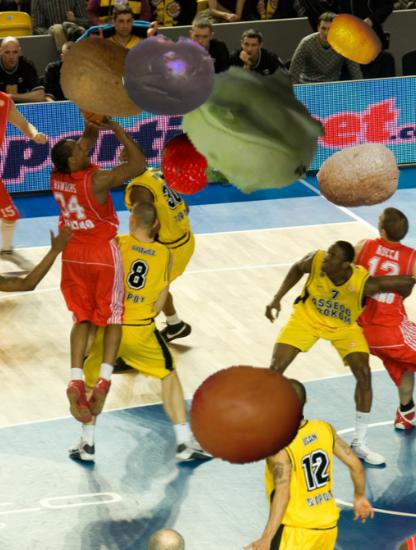Apricot: (188, 357, 305, 474)
Kiwi: (57, 28, 159, 130), (318, 135, 402, 219)
Kohlrabi: (177, 57, 324, 204)
Kumquats: (325, 10, 384, 69)
Passion: (122, 27, 219, 124)
Strawberry: (150, 126, 224, 200)
